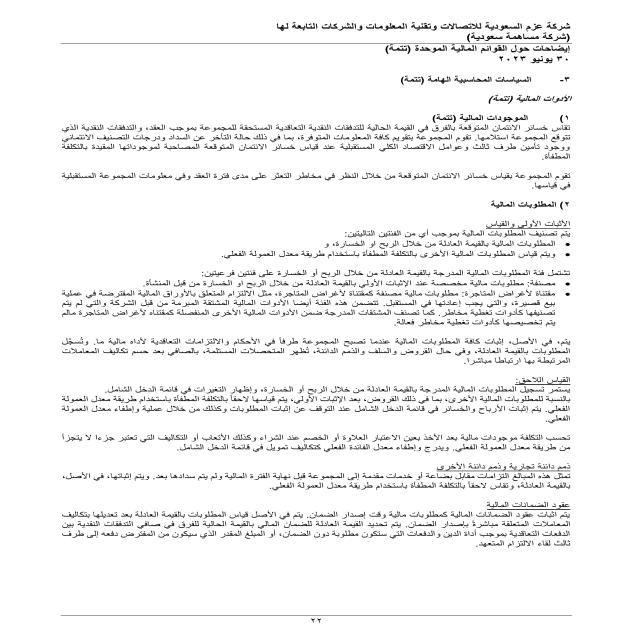notes: (376, 44, 574, 57)
text: (40, 111, 586, 564)
